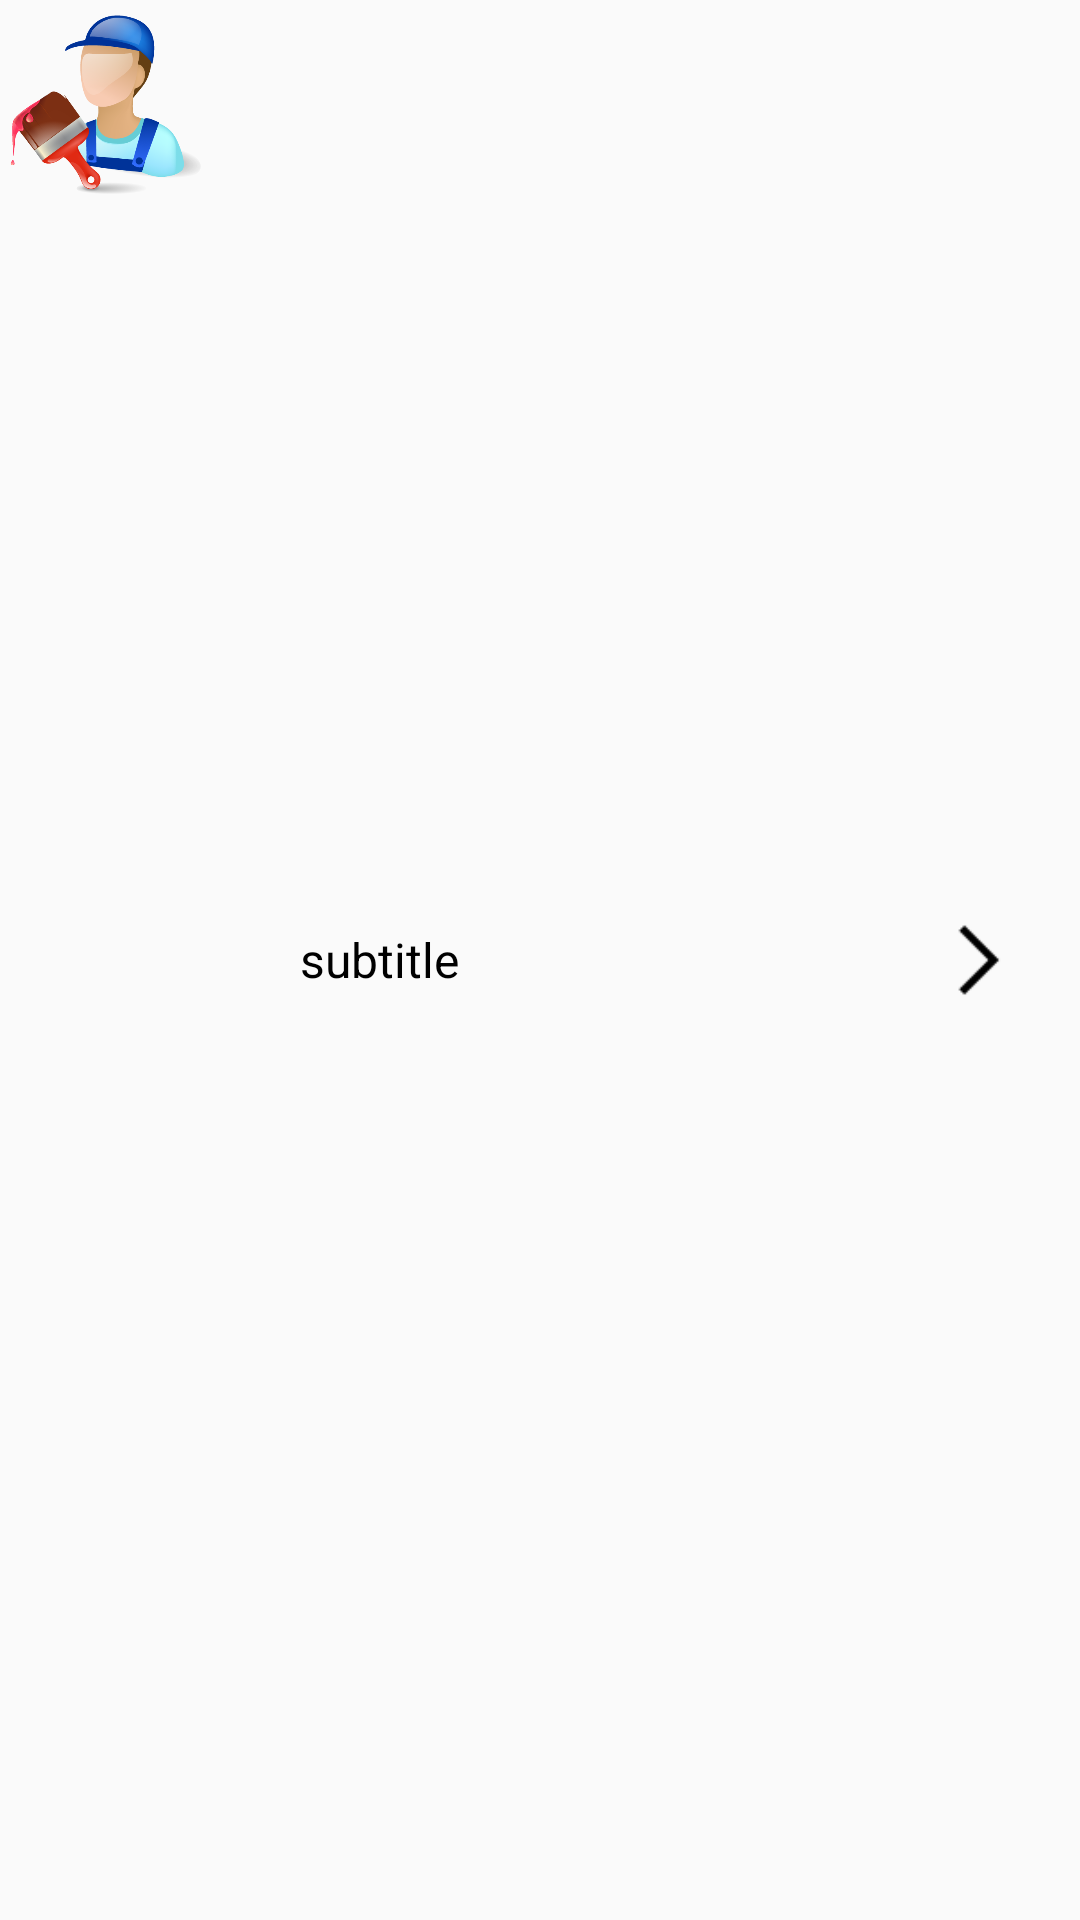

Named icons in this screenshot (1080w x 1920h) and their centers, (x=x, y=y):
painter: (x=103, y=104)
